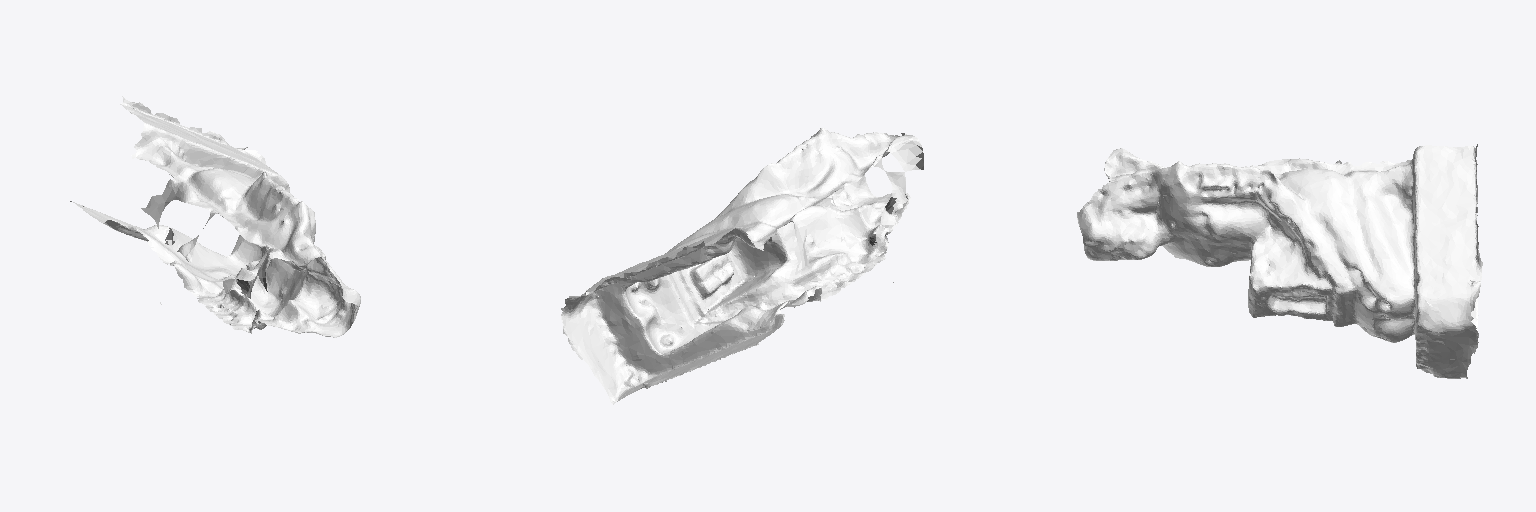
Rendered from esfinghe1.obj.
3 renders of one model, left to right at view 1: azimuth 30°, elevation 25°; view 2: azimuth 150°, elevation 25°; view 3: azimuth 270°, elevation 25°, orthographic.
Bounding box in the file's own units: 24.09 × 19.94 × 38.25.